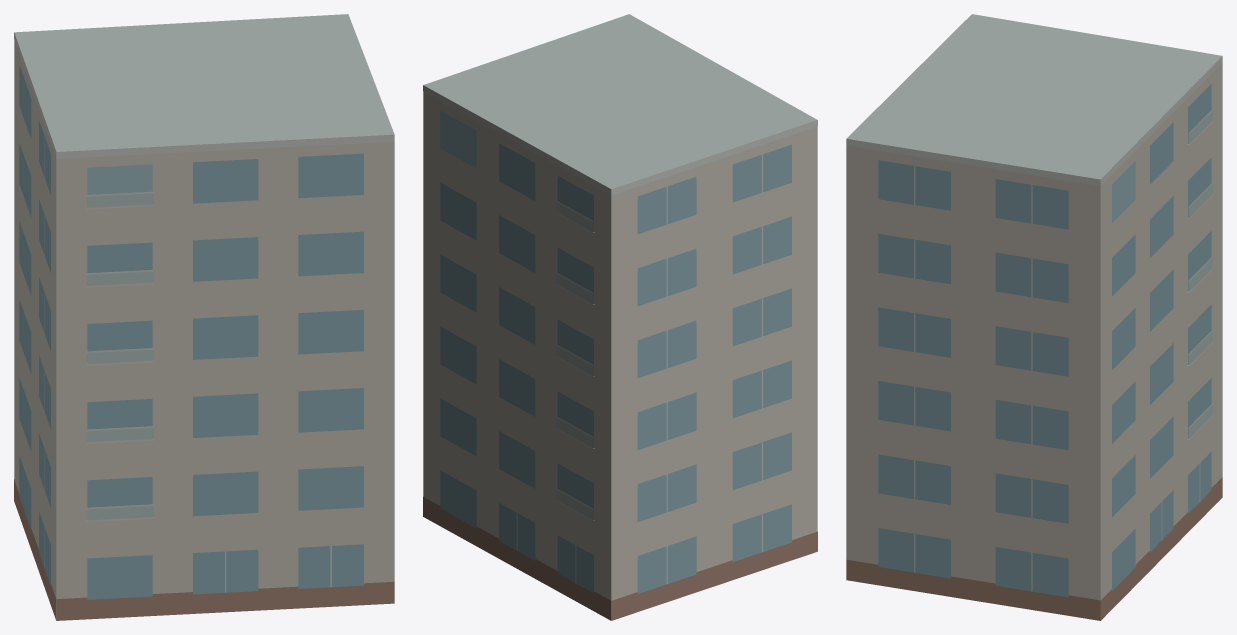
The model's file is survey-upis-32664750.glb.
3 renders of one model, left to right at view 1: azimuth 30°, elevation 25°; view 2: azimuth 150°, elevation 25°; view 3: azimuth 270°, elevation 25°, orthographic. The views are drawn at different scales.
Visible parts, largest first — view 1: survey-upis-32664750.tmp; view 2: survey-upis-32664750.tmp; view 3: survey-upis-32664750.tmp.
Part boxes in pixels (x1=…): survey-upis-32664750.tmp: x1=14, y1=14, x2=394, y2=620; survey-upis-32664750.tmp: x1=423, y1=14, x2=817, y2=620; survey-upis-32664750.tmp: x1=846, y1=14, x2=1222, y2=620.
Bounding box in the file's own units: 13.36 × 16.6 × 12.84.
